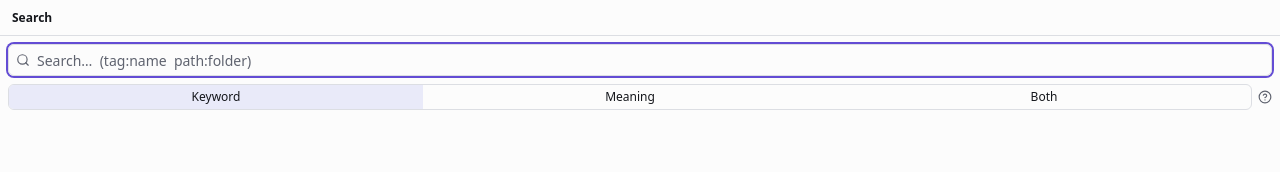
Test: SearchPanel › meaning mode uses embeddings once the index has chunks
Click the radio button labelled "Meaning": (630,97) [423,85,837,109]
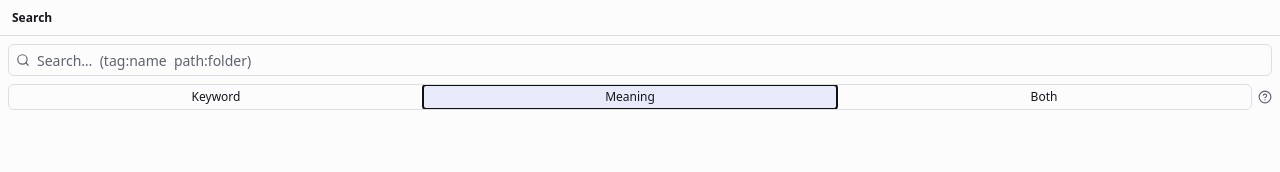
In the field named "Search notes": (640,60) [8,44,1272,76], type "data protection"
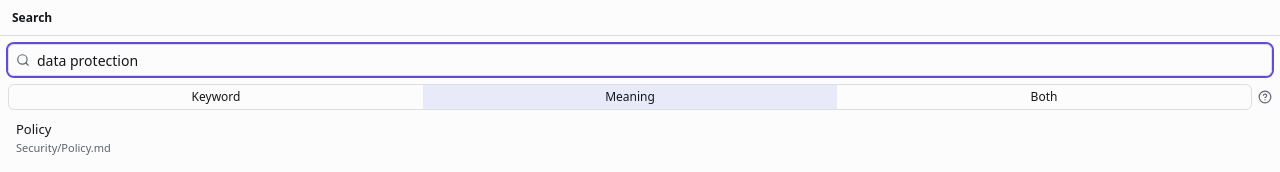
Result: the text "Policy" is shown at [16,120,51,138]
